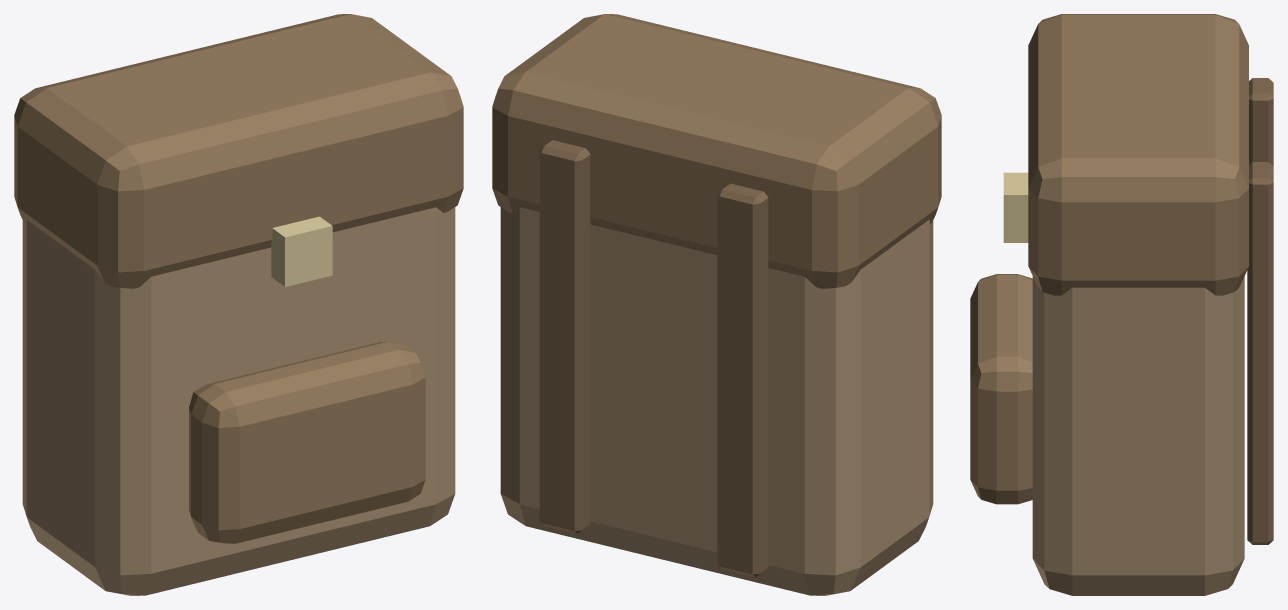
Rendered from backpack_small.glb.
The picture shows the model from 3 angles, left to right: view 1: azimuth 30°, elevation 25°; view 2: azimuth 150°, elevation 25°; view 3: azimuth 270°, elevation 25°; orthographic projection. The views are drawn at different scales.
Visible parts, largest first — view 1: backpack_small; view 2: backpack_small; view 3: backpack_small.
Part boxes in pixels (x1,y1,x2,y2): backpack_small: (14,14,463,595); backpack_small: (492,14,941,595); backpack_small: (970,14,1273,595).
Bounding box in the file's own units: 0.306 × 0.3672 × 0.2292.
